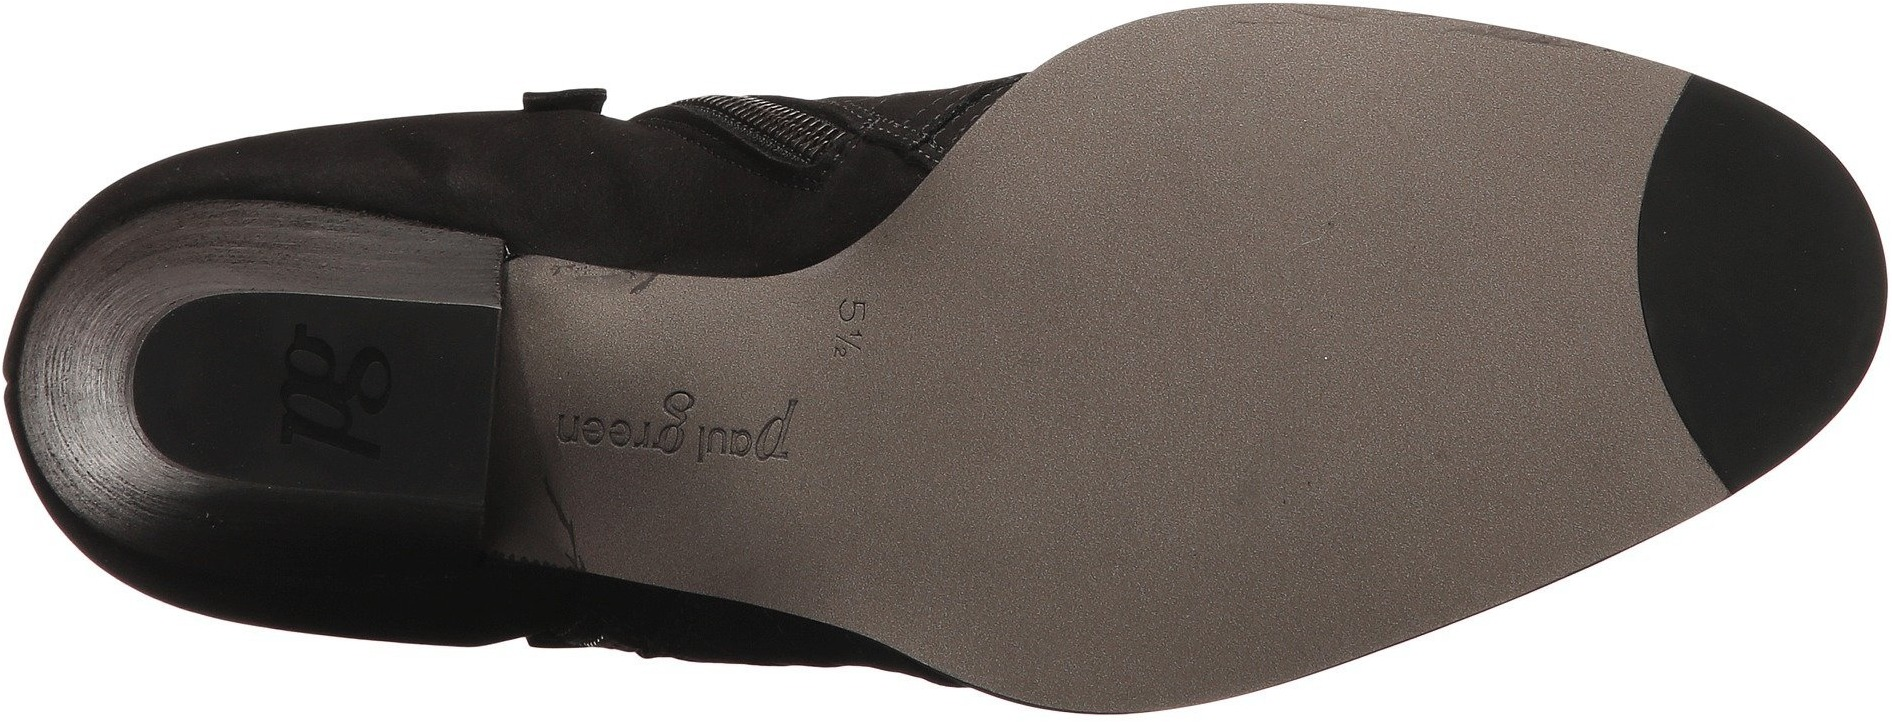exclude: (4, 37, 1043, 688)
other: (936, 212, 1350, 557), (1362, 63, 1636, 313), (1359, 321, 1592, 558), (1651, 202, 1859, 382)
text: (274, 338, 386, 439)
